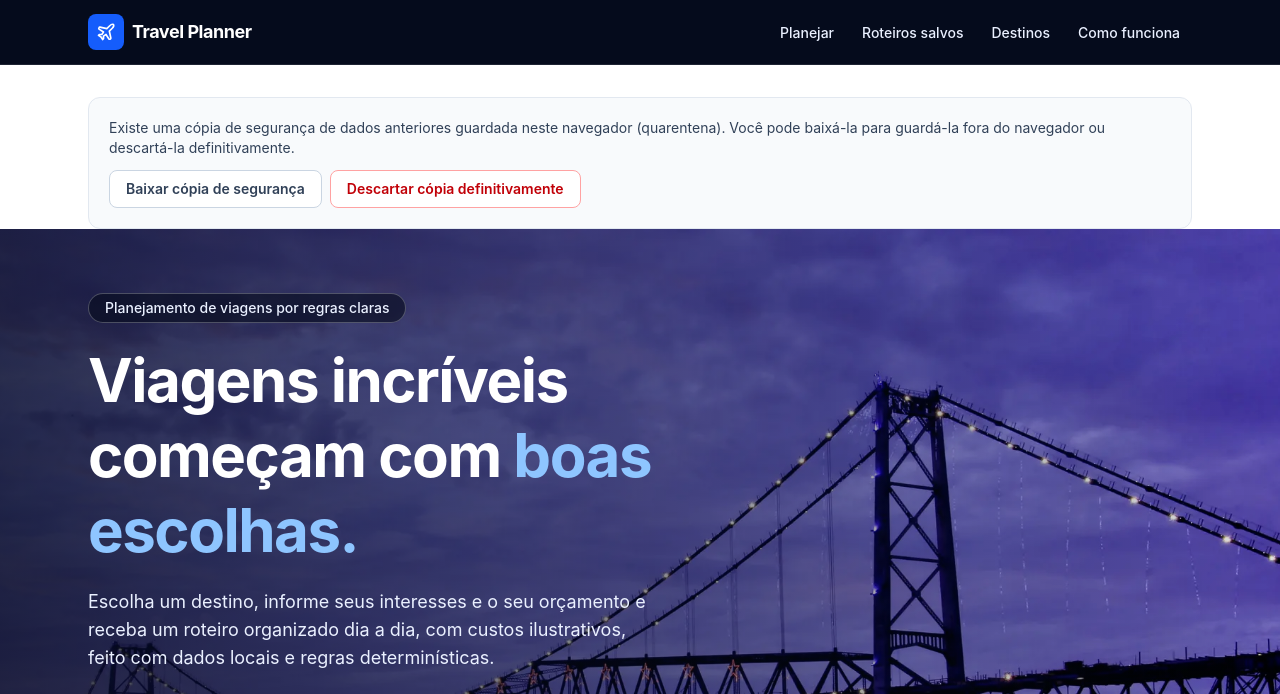
Test case: AUD-01 — descarte seguro da quarentena › erro durante a remoção da cópia: falha explícita, cópia preservada exatamente e principal intacta
The width and height of the screenshot is (1280, 694).
Click the button "Descartar cópia definitivamente".
click(455, 189)  # box x1=330 y1=170 x2=581 y2=208
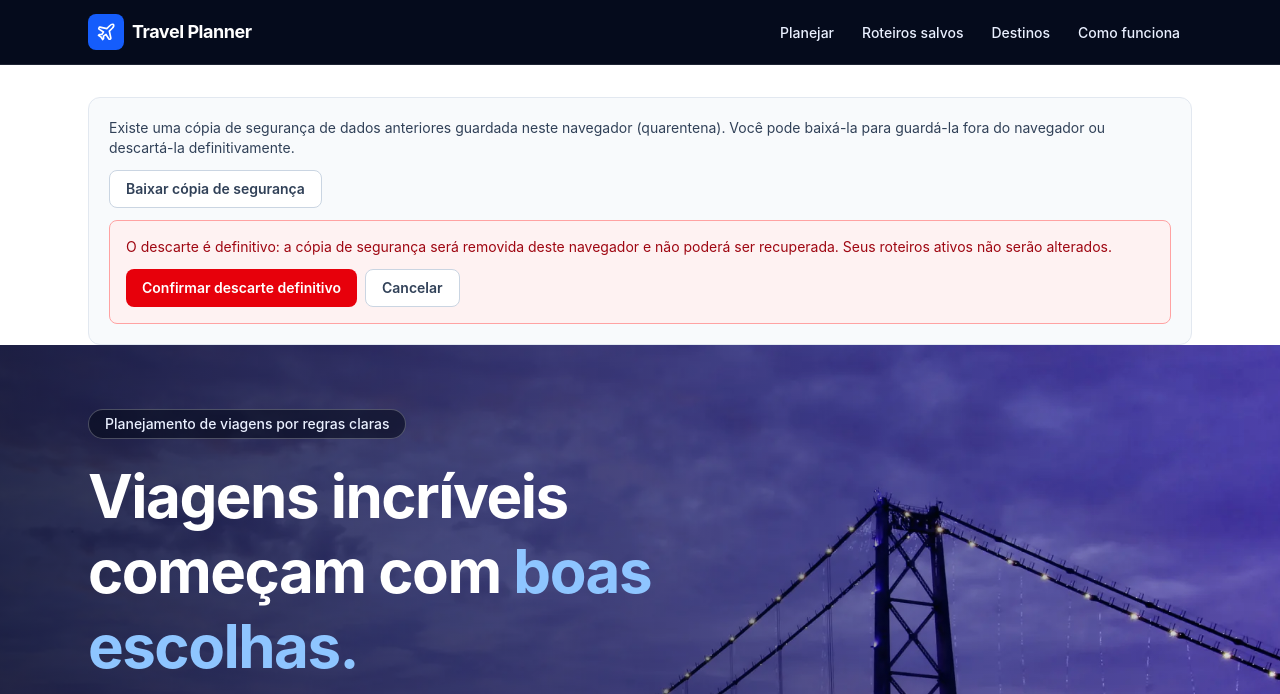
Result: the text "O descarte é definitivo" is shown at x1=126 y1=238 x2=1112 y2=255
Click the button "Confirmar descarte definitivo".
click(242, 288)  # box x1=126 y1=269 x2=357 y2=307
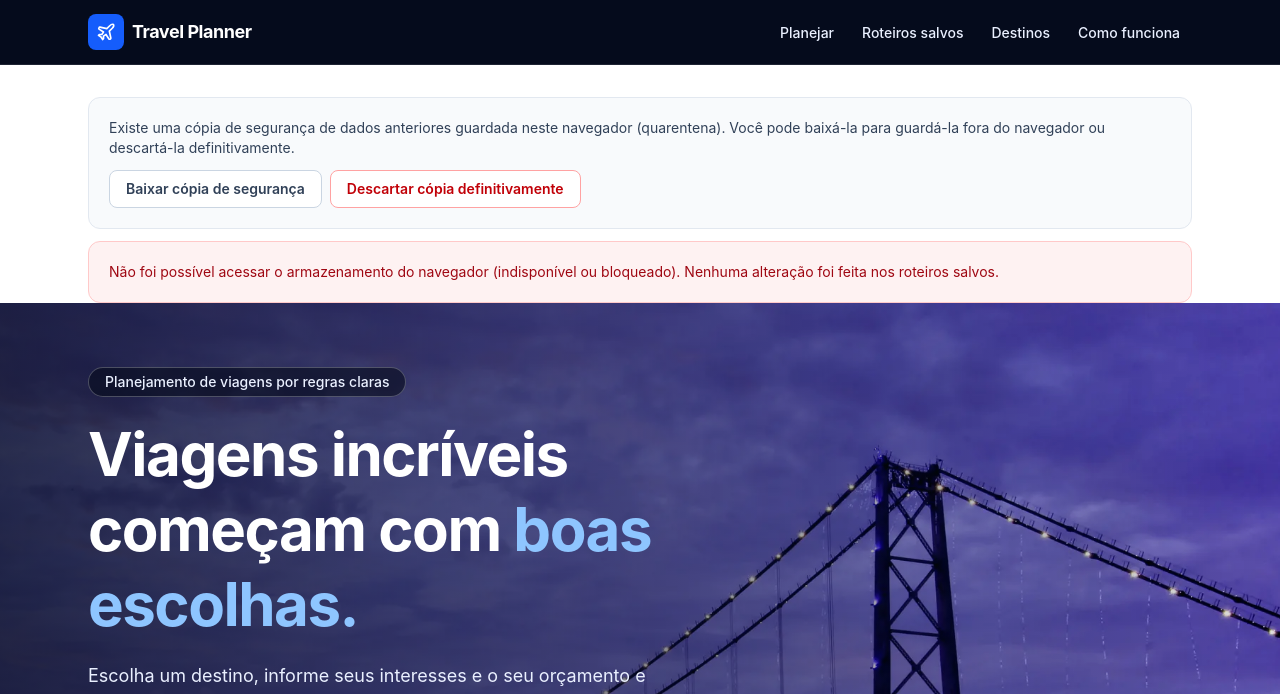
Result: the text "indisponível ou bloqueado" is shown at x1=109 y1=263 x2=999 y2=280
